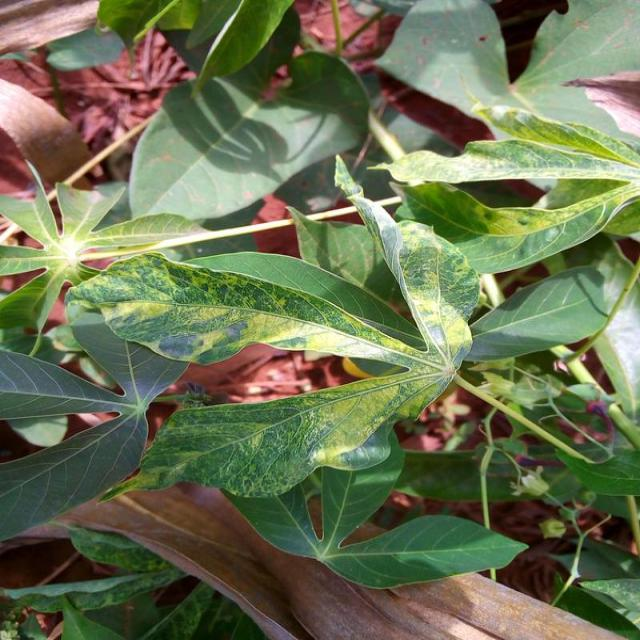cassava leaf: (64, 248, 435, 371), (127, 47, 370, 223)
